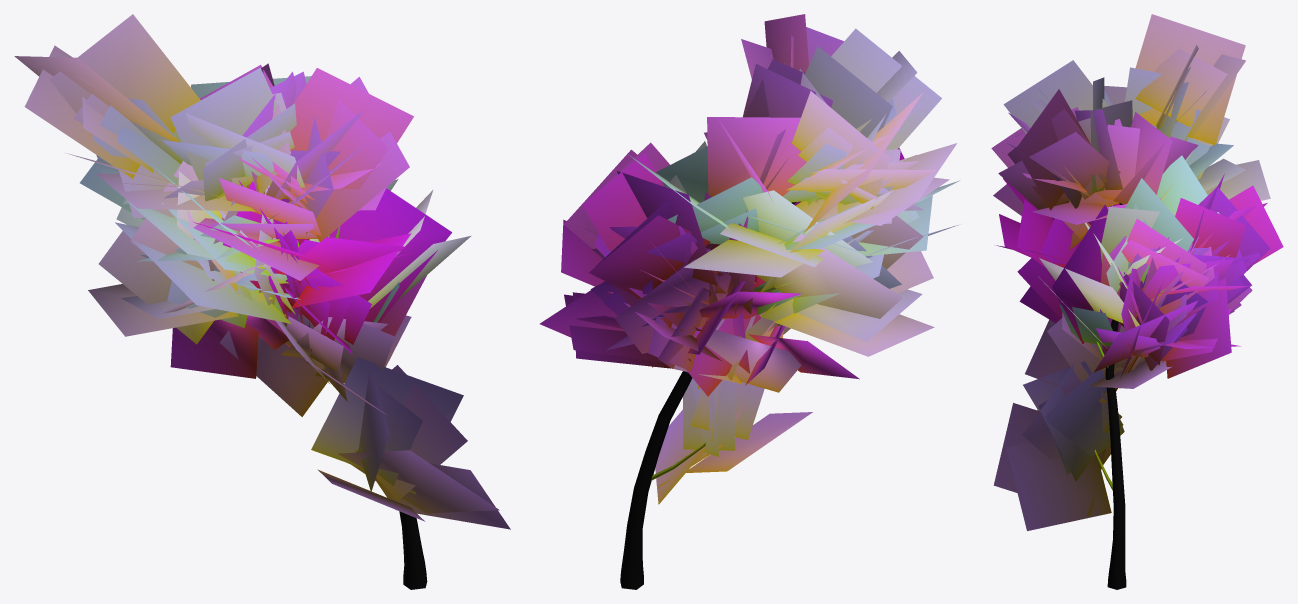
File: tree_ginkgo_b_gold_lod1.glb
The picture shows the model from 3 angles, left to right: view 1: azimuth 30°, elevation 25°; view 2: azimuth 150°, elevation 25°; view 3: azimuth 270°, elevation 25°; orthographic projection. The views are drawn at different scales.
Visible parts, largest first — view 1: tree_ginkgo_b_gold_lod1; view 2: tree_ginkgo_b_gold_lod1; view 3: tree_ginkgo_b_gold_lod1.
Boxes of the visible parts, left/top/right/bottom form: tree_ginkgo_b_gold_lod1: left=14, top=14, right=510, bottom=589; tree_ginkgo_b_gold_lod1: left=540, top=14, right=960, bottom=589; tree_ginkgo_b_gold_lod1: left=991, top=14, right=1283, bottom=589.
Size of the model in its own units: 12.26 by 17.93 by 10.44.
